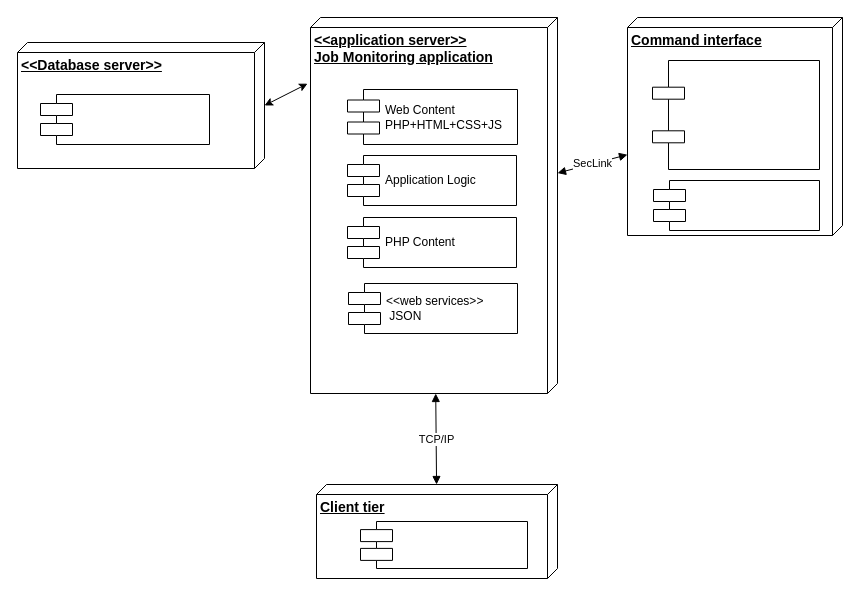
This 860x596 diagram has some shape labels left out. Each missing label, with the centre of its shape:
"<<MySQL Database>> Relational tables" belongs at point 125,119.
"<<web browser>> thin client" belongs at point 444,544.
"command log file" belongs at point 736,205.
"pbs command files <<qsub>> <<qdel>> <<qstat>> <<qhold>> <<qrls>>" belongs at point 736,115.
